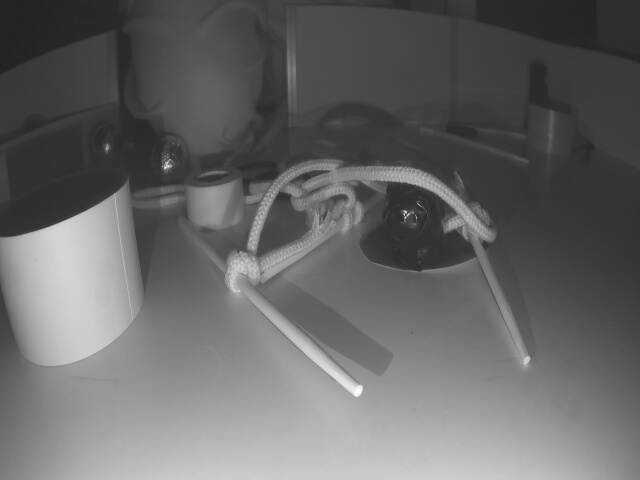Dead: (389, 181, 440, 248)
Live: (152, 136, 192, 179), (91, 125, 126, 162)
Point: (0, 107, 116, 201)
